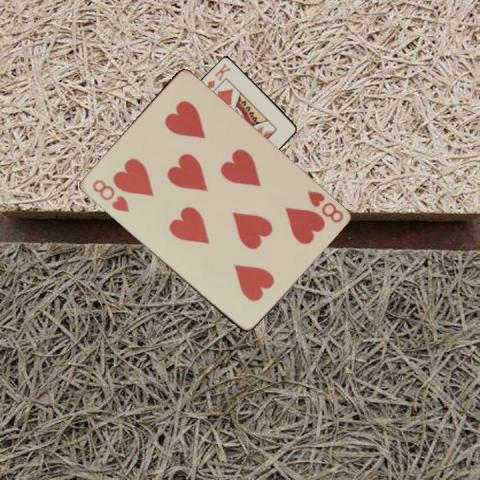8h: (304, 187, 345, 225), (88, 177, 130, 214)
Kd: (204, 61, 232, 90)
